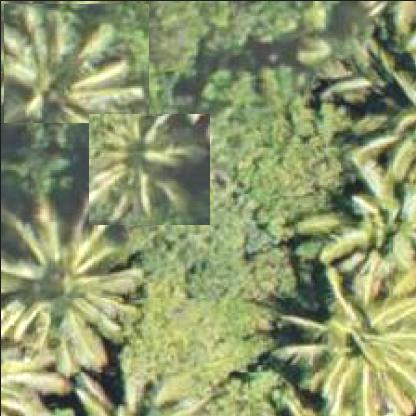coconut tree: (265, 1, 415, 415), (1, 180, 155, 415), (2, 2, 148, 122), (87, 112, 209, 224)
